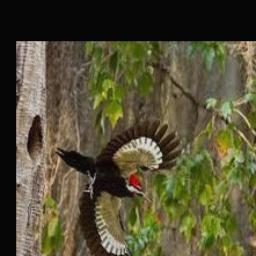Woodpecker: (56, 118, 185, 256)
